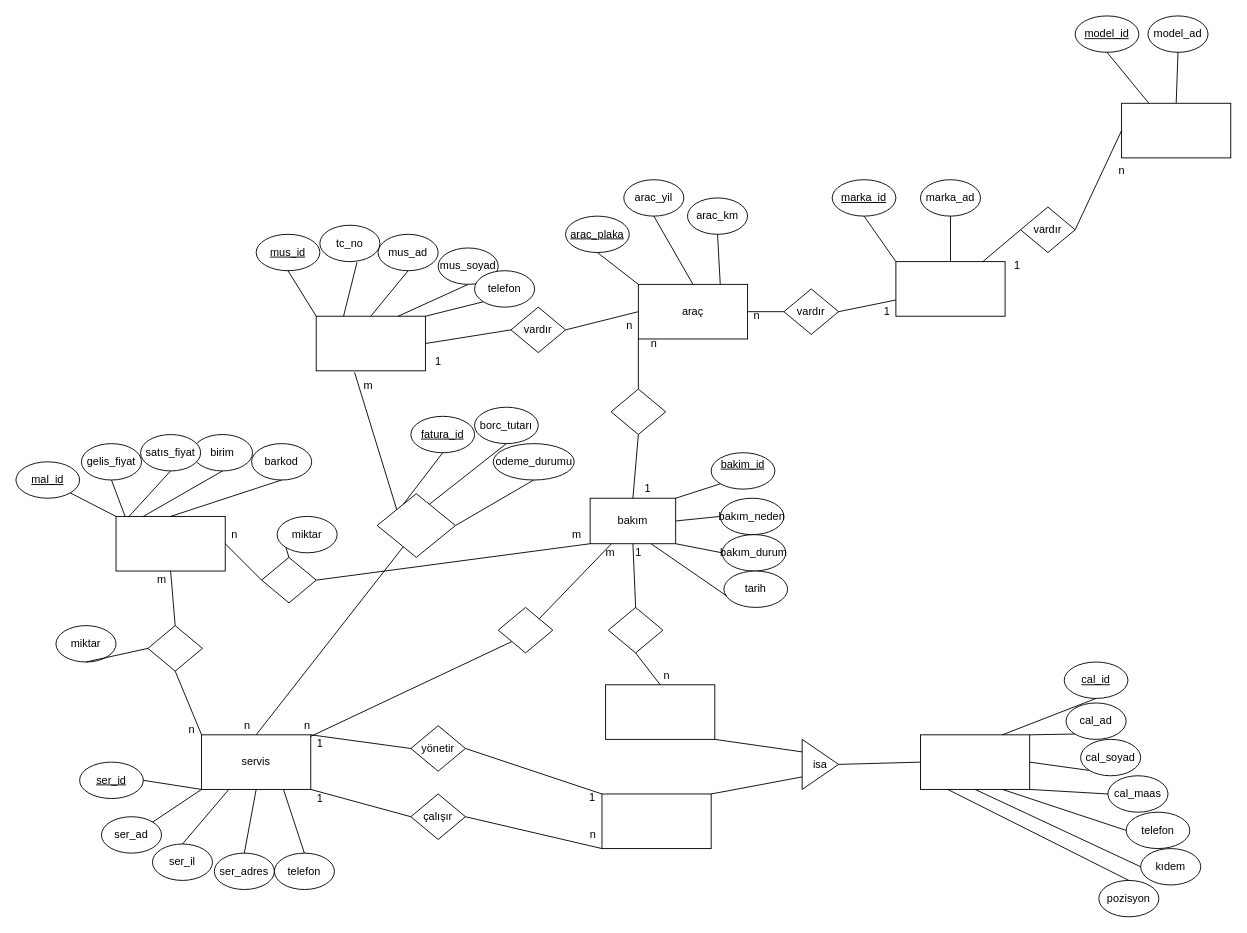
The diagram is 1247 pixels wide and 933 high, and some of its shapes have lost their labels. Here are the shapes that lost their labels. From the top down, the centre of each, then its label:
the point at 1176,130: model
the point at 950,288: marka
the point at 370,343: müşteri
the point at 638,411: girer
the point at 170,543: malzeme
the point at 415,525: fatura
the point at 288,579: tüketir
the point at 174,648: alır
the point at 525,630: yapılır
the point at 635,630: yapar
the point at 660,711: usta
the point at 975,761: calisan
the point at 656,821: ofis_calisan
